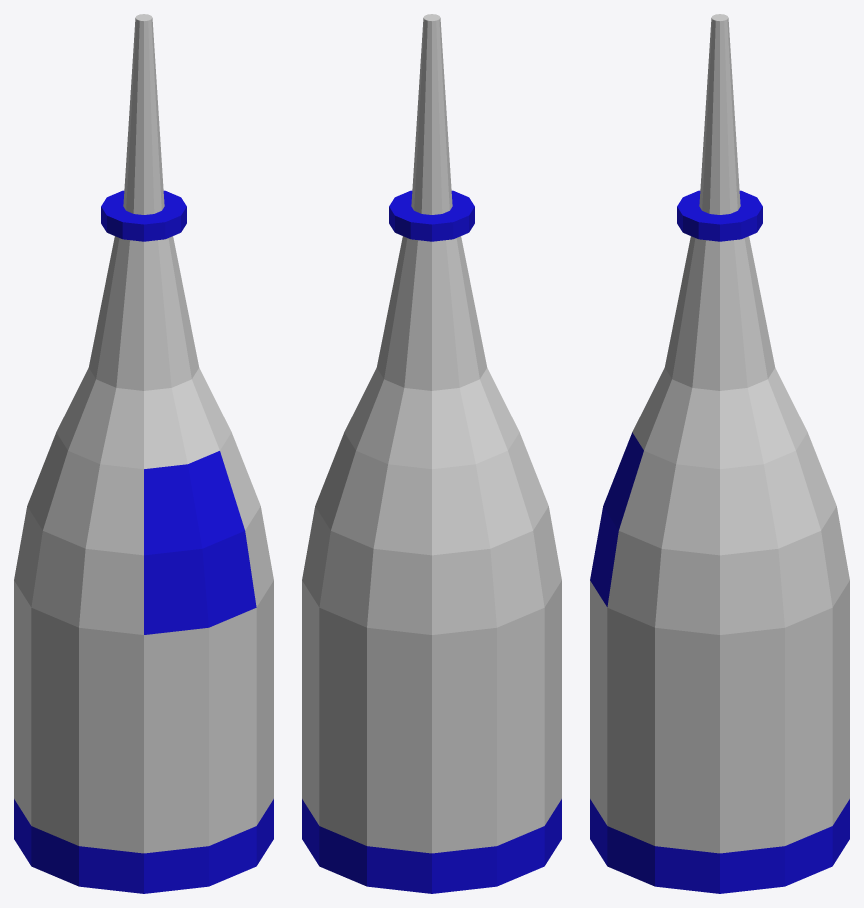
File: Head10.gltf
The picture shows the model from 3 angles, left to right: view 1: azimuth 30°, elevation 25°; view 2: azimuth 150°, elevation 25°; view 3: azimuth 270°, elevation 25°; orthographic projection.
Visible parts, largest first — view 1: Head10; view 2: Head10; view 3: Head10.
Part boxes in pixels (<box>): Head10: <box>14,14,273,893</box>; Head10: <box>302,14,561,893</box>; Head10: <box>590,14,849,893</box>.
Size of the model in its own units: 0.5 by 1.74 by 0.5.
